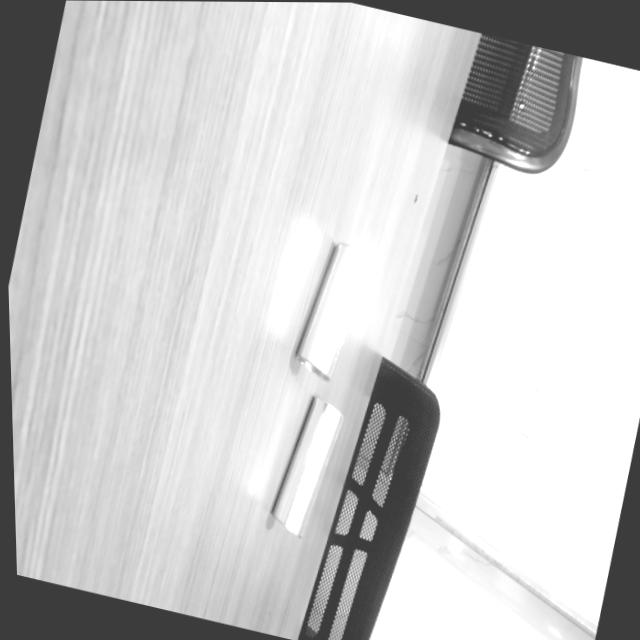Co_Lon: (266, 394, 347, 536)
Co_Nho: (290, 239, 375, 380)
